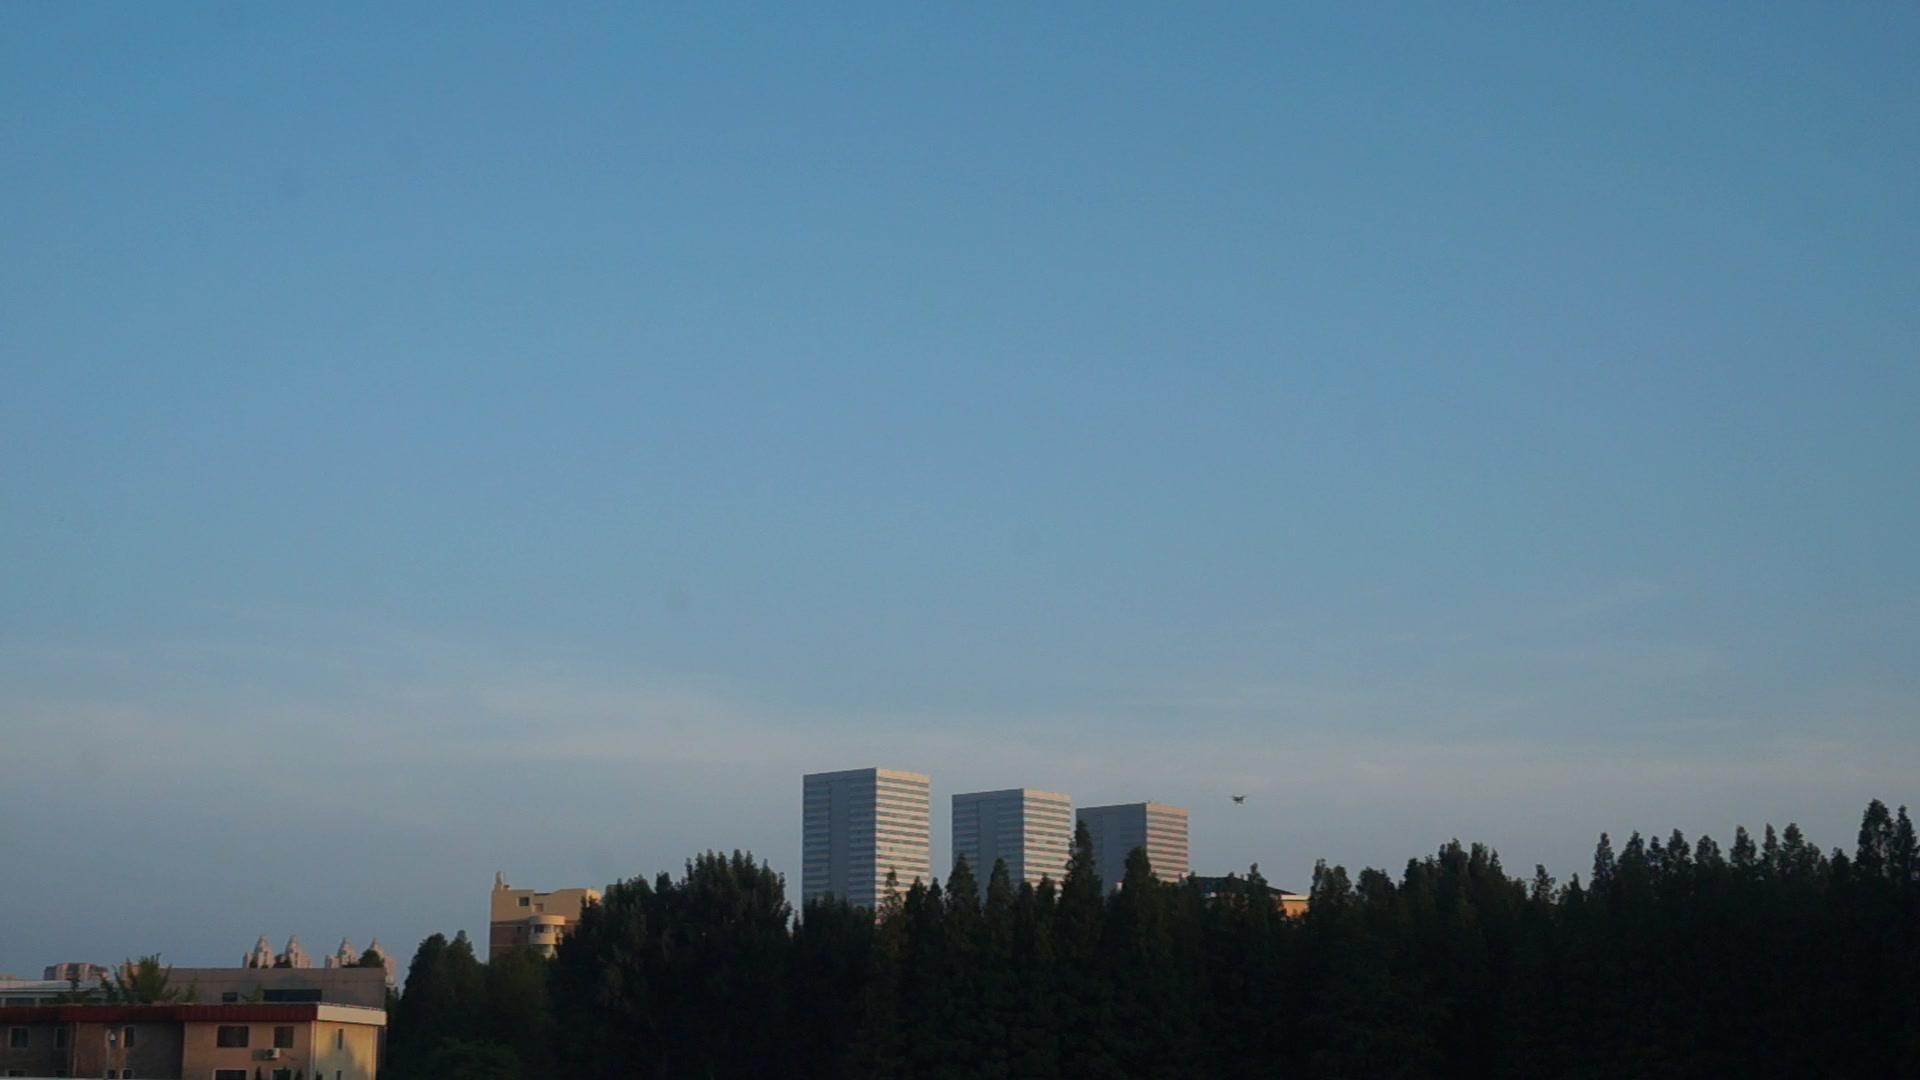UAV: (1234, 795, 1249, 807)
